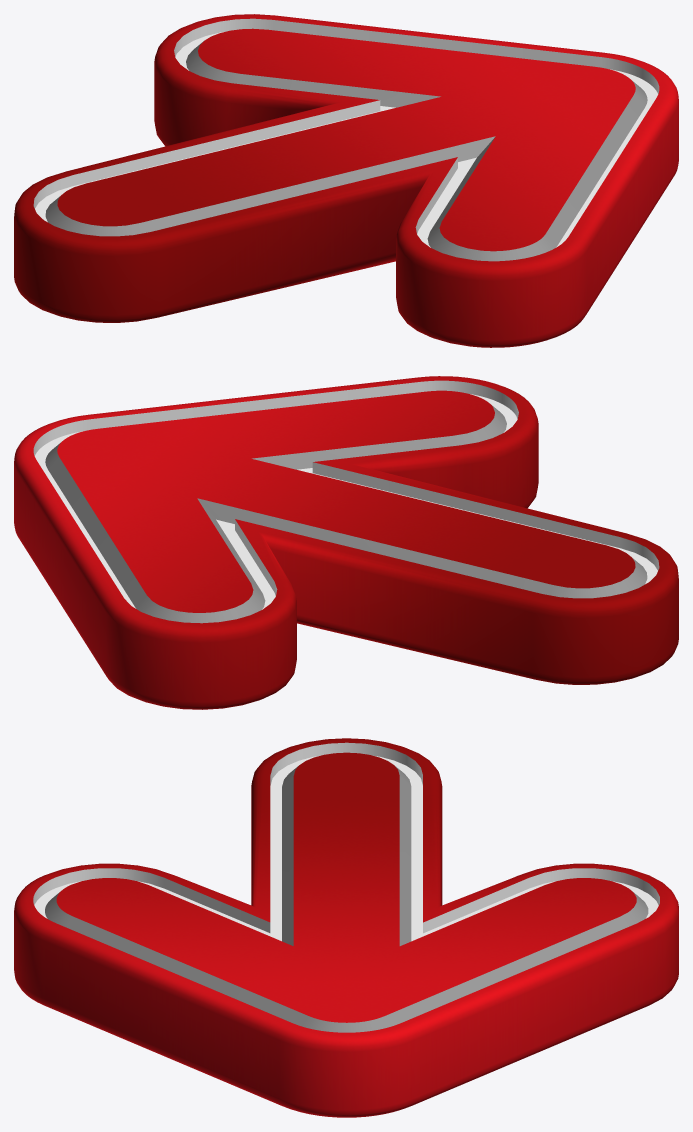
File: arrow.FBX
The picture shows the model from 3 angles, top to bottom: view 1: azimuth 30°, elevation 25°; view 2: azimuth 150°, elevation 25°; view 3: azimuth 270°, elevation 25°; orthographic projection.
Parts seen in each view (by area): view 1: Shape1; view 2: Shape1; view 3: Shape1.
Boxes of the visible parts, box(x1,y1,x2,y2) form: Shape1: box(14, 14, 678, 347); Shape1: box(14, 376, 678, 709); Shape1: box(14, 738, 678, 1117).
Size of the model in its own units: 2127 by 261 by 1952.
